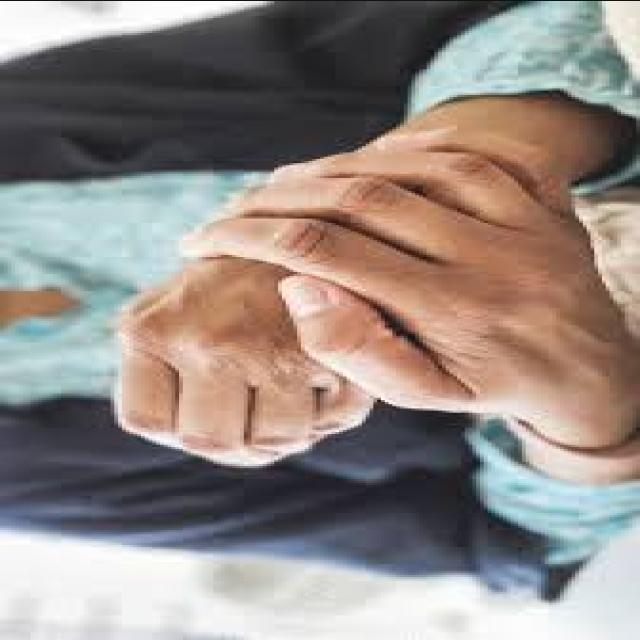Hand: (180, 141, 640, 413), (103, 149, 446, 469)
